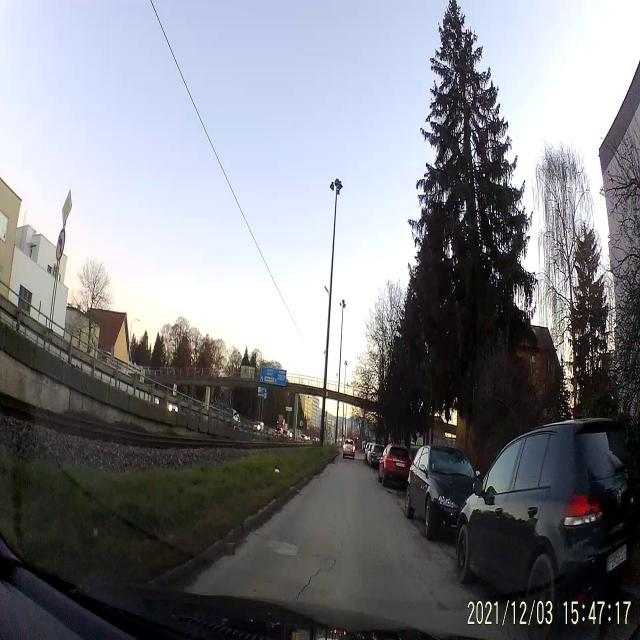Pothole: (268, 537, 300, 555)
